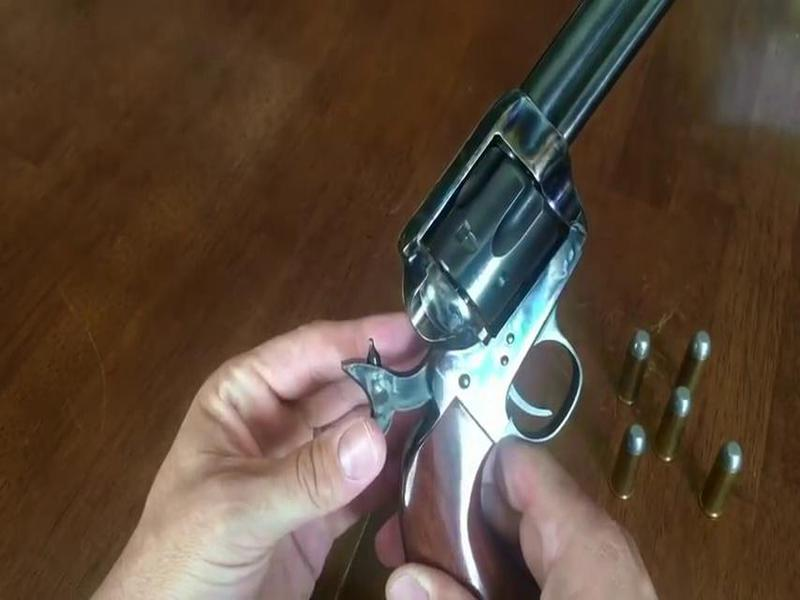Revolver: (392, 6, 691, 590)
